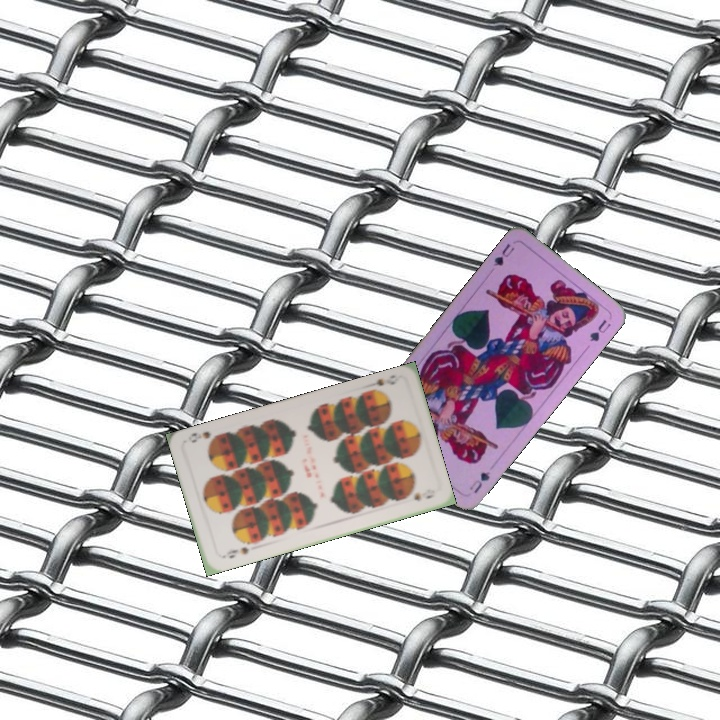GU: (489, 239, 517, 269), (465, 467, 493, 496)
S9: (363, 371, 402, 390), (216, 543, 252, 561)
